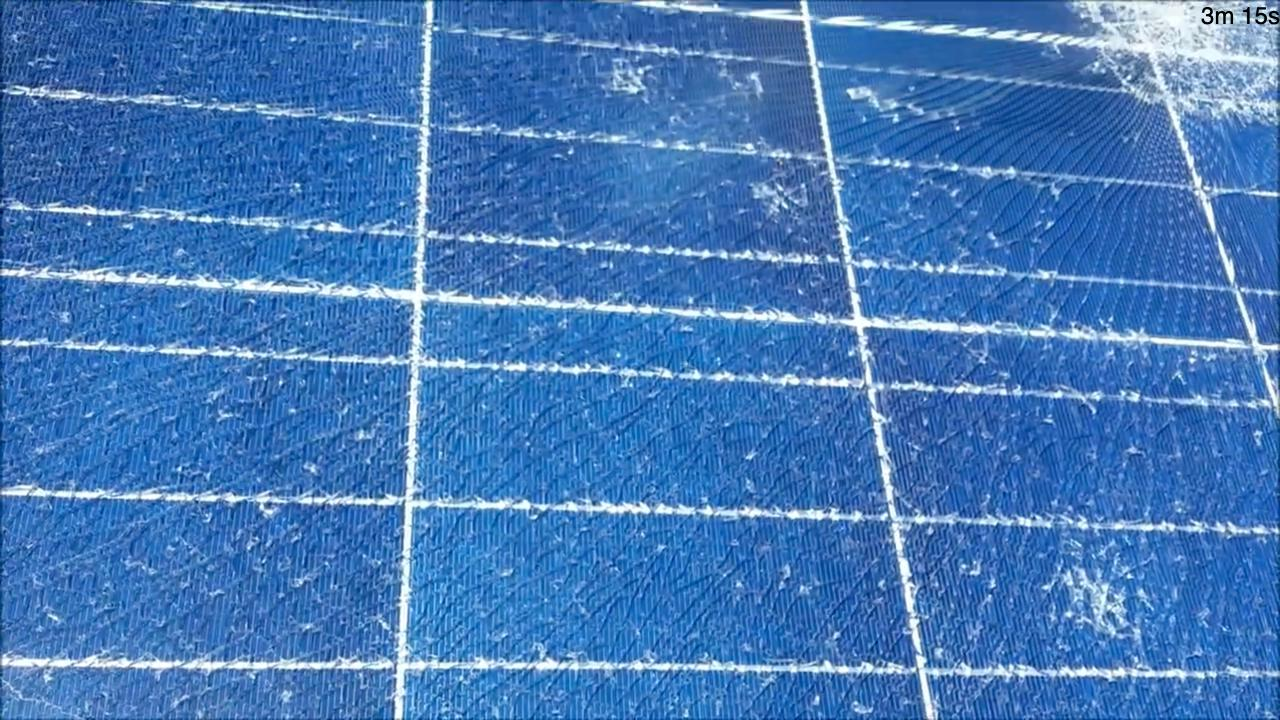Crack: (0, 0, 526, 713), (538, 367, 942, 719), (965, 370, 1280, 713), (872, 124, 1280, 366), (1038, 0, 1278, 129), (728, 166, 825, 241), (589, 47, 659, 108)
